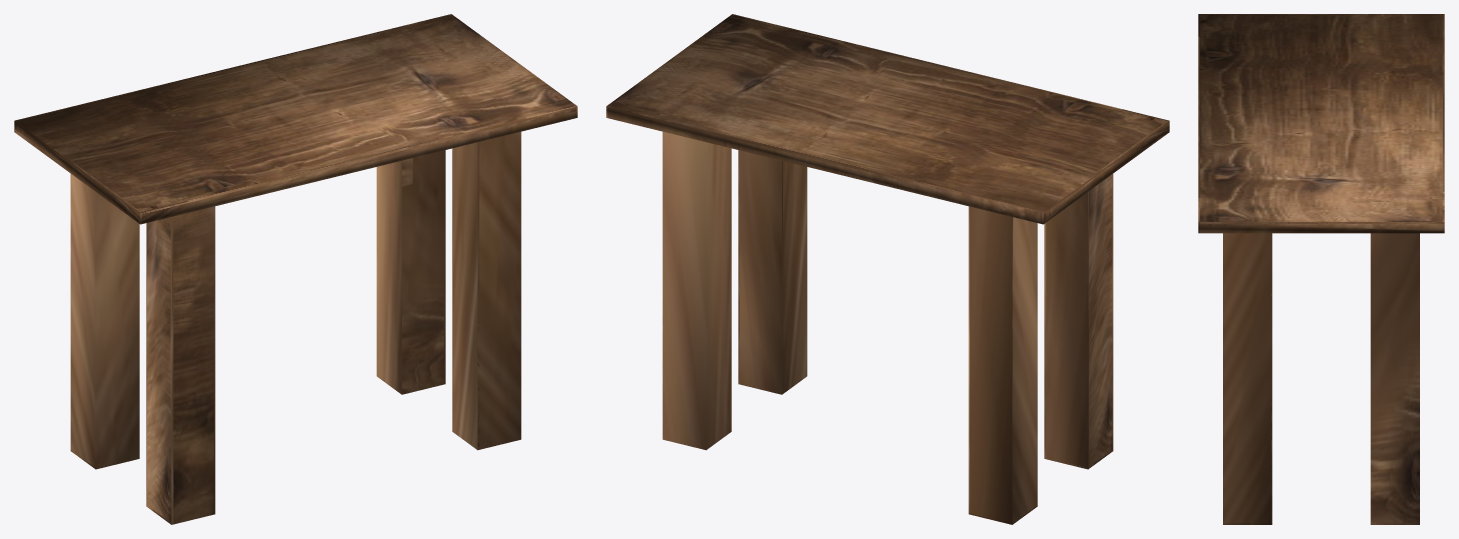
Rendered from table.obj.
3 renders of one model, left to right at view 1: azimuth 30°, elevation 25°; view 2: azimuth 150°, elevation 25°; view 3: azimuth 270°, elevation 25°, orthographic. The views are drawn at different scales.
Visible parts, largest first — view 1: table; view 2: table; view 3: table.
Part boxes in pixels (x1=…): table: x1=14, y1=14, x2=577, y2=524; table: x1=606, y1=14, x2=1169, y2=524; table: x1=1198, y1=14, x2=1444, y2=524.
Size of the model in its own units: 1 by 0.725 by 0.5.
1 material, 1 textured.
